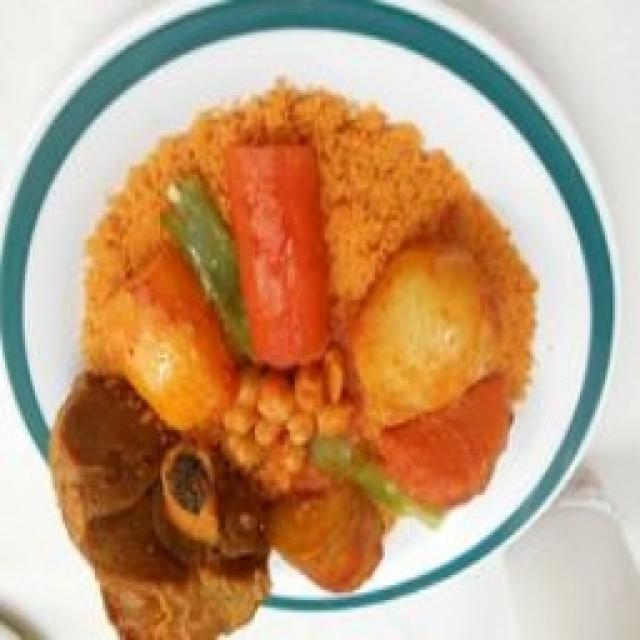Couscous: (50, 89, 536, 640)
